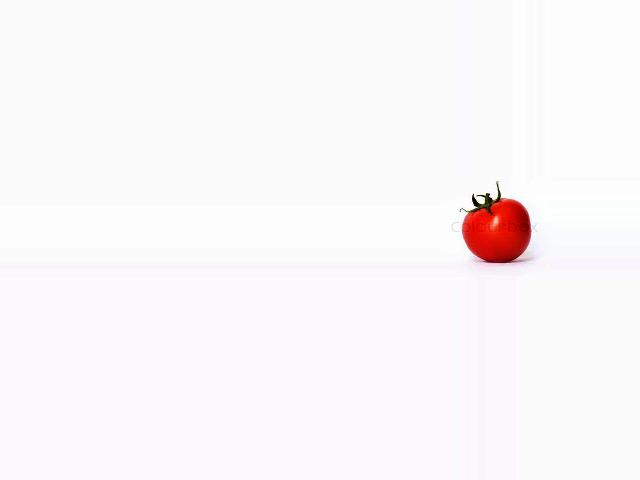tomato: (463, 198, 531, 261)
